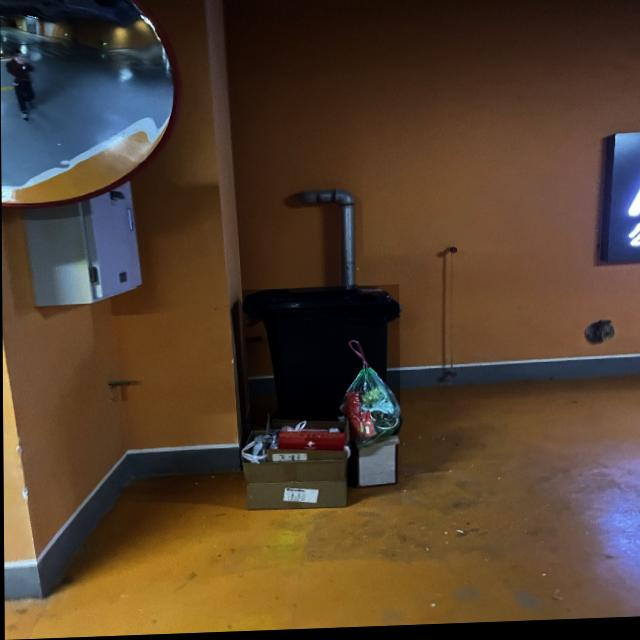garbage: (235, 339, 401, 513)
garbage_bin: (242, 287, 400, 426)
